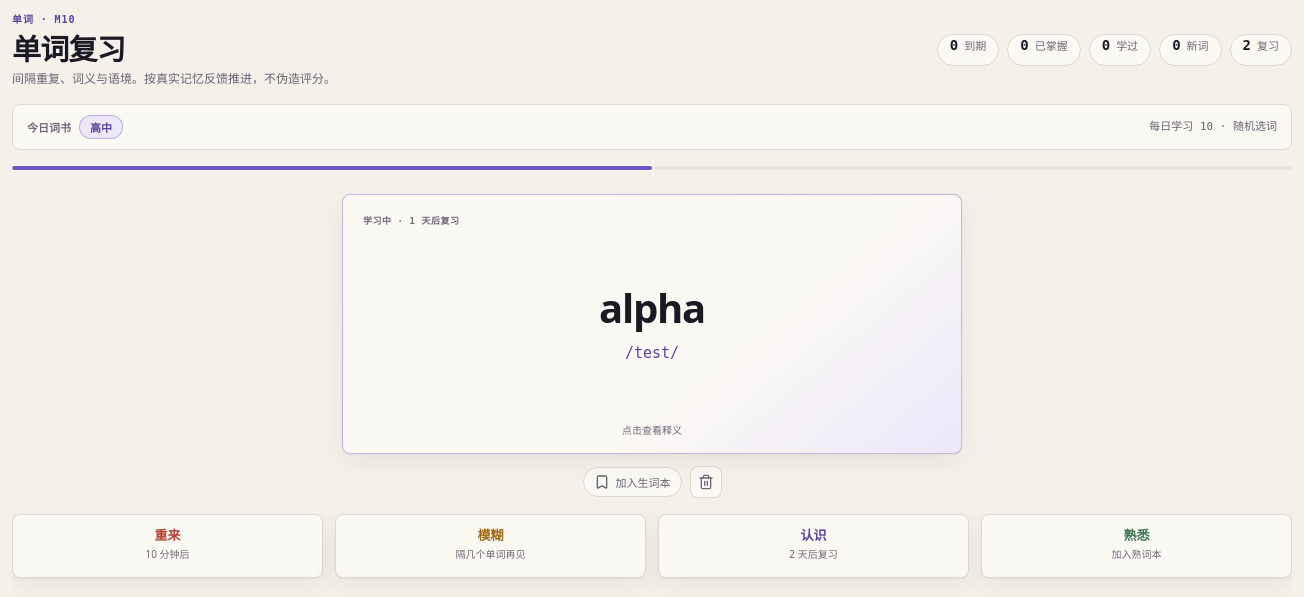
Scenario: WordsPage › does not show a recorded line after rating a card known
Click the button "认识 2 天后复习" at (814, 546), box [658,514,969,578]
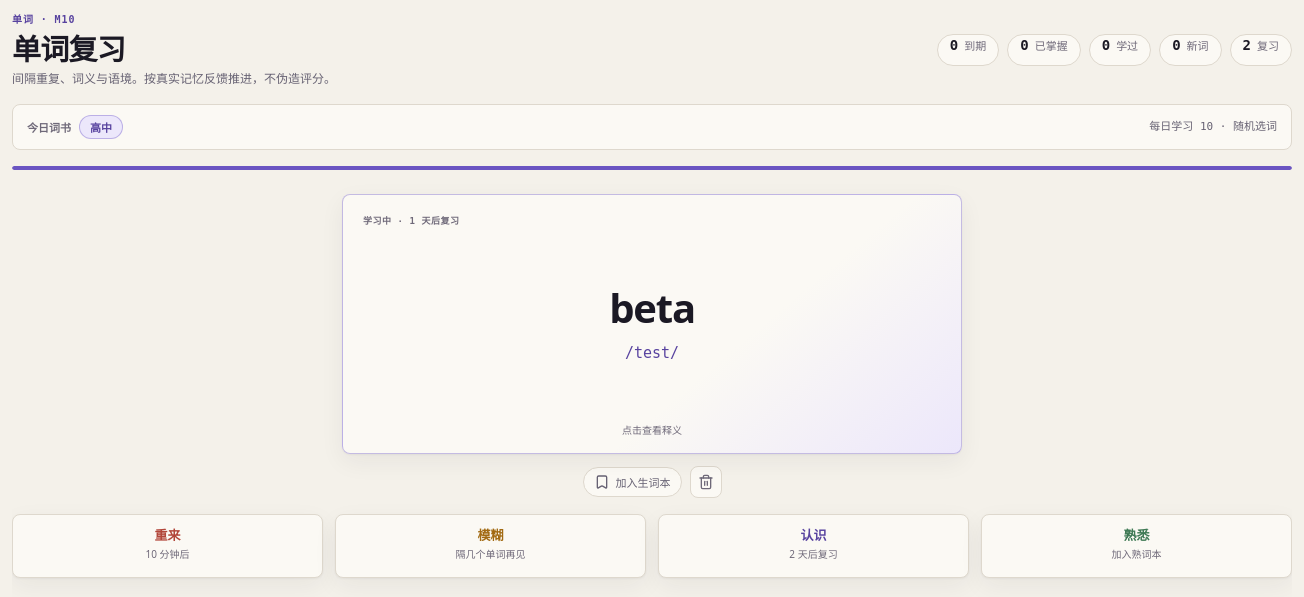
expect the text "beta" is shown: met, box [609,284,695,332]
